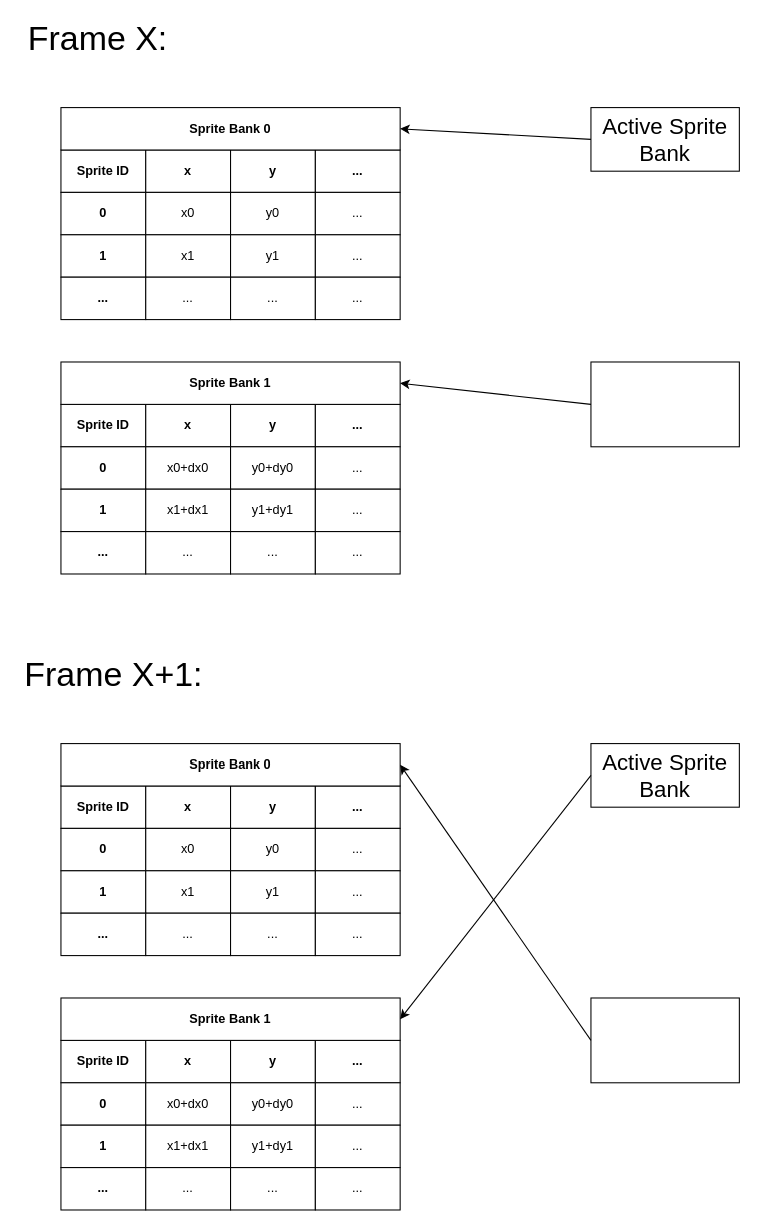
The diagram is 758 pixels wide and 1229 high, and some of its shapes have lost their labels. Here are the shapes that lost their labels. From the top down, the box of each, then its label:
(590, 361, 739, 447): Software prepares Sprite Bank 1
(590, 997, 739, 1083): Software prepares Sprite Bank 0
